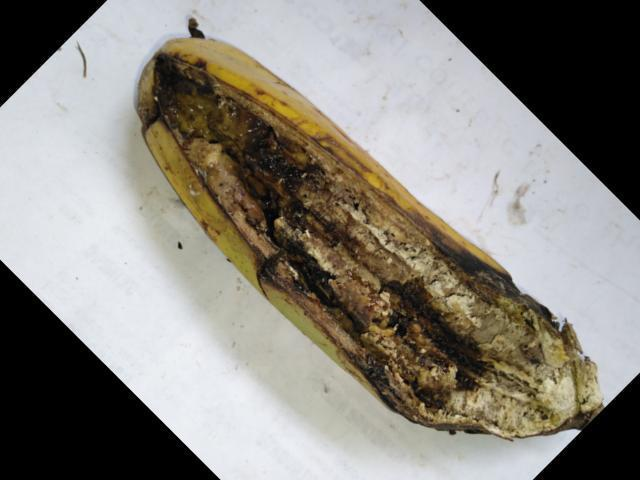rotten: (129, 45, 610, 441)
